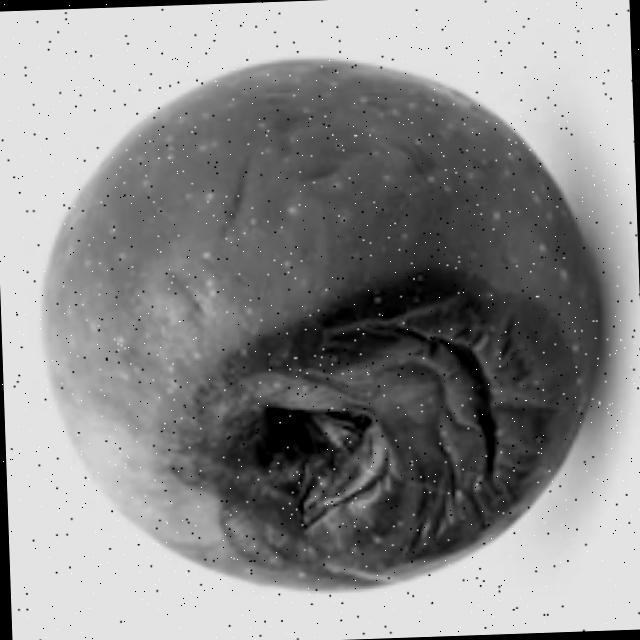Rotten: (21, 46, 616, 608)
